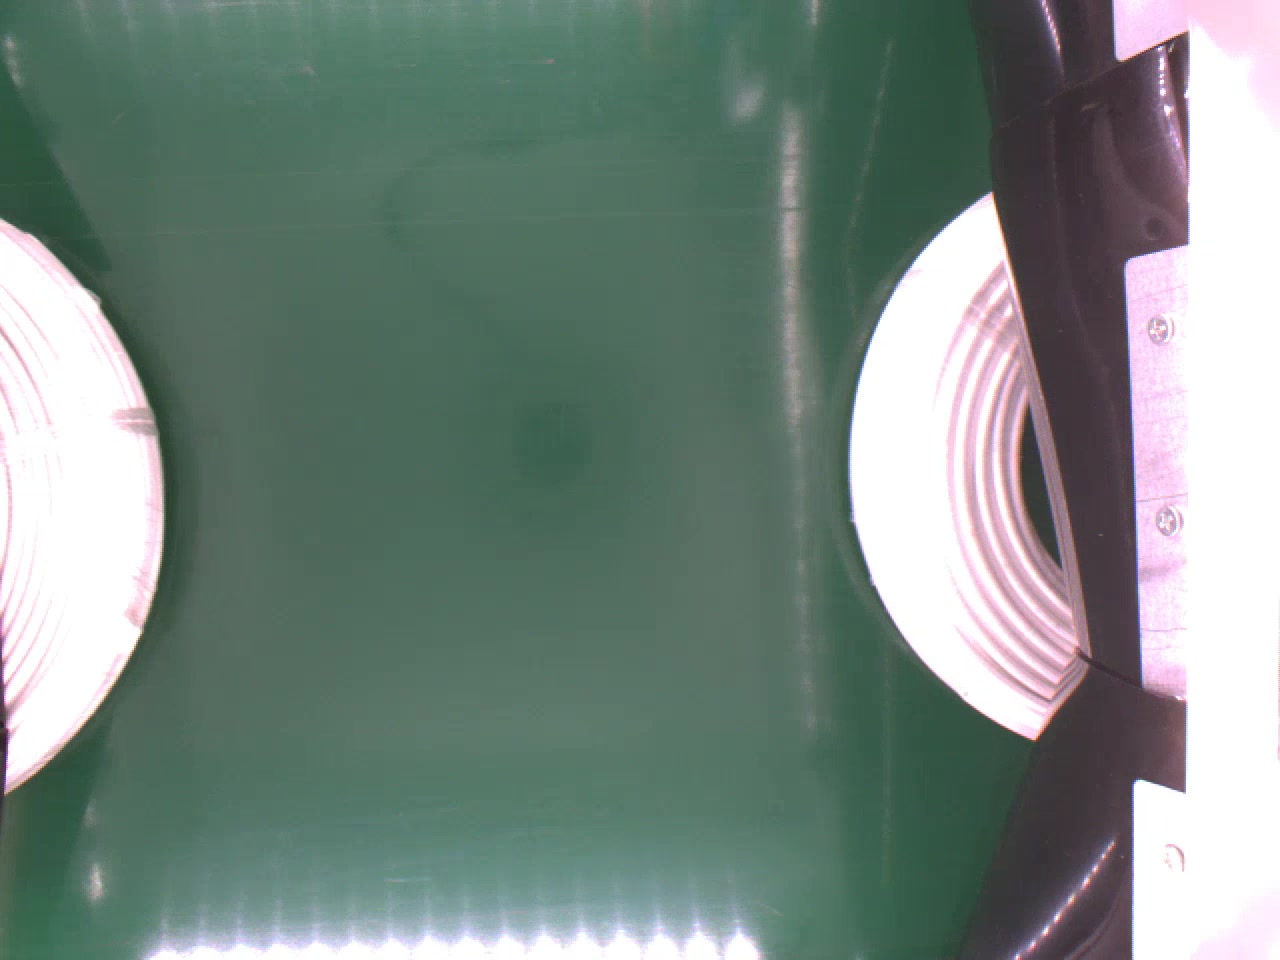white: (849, 173, 1072, 743), (0, 211, 166, 790)
